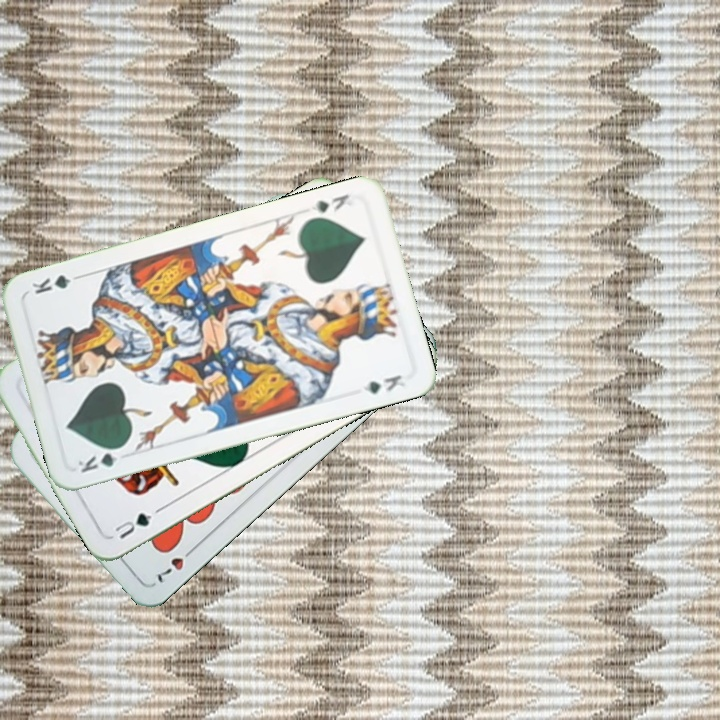GK: (73, 442, 128, 476), (307, 190, 352, 217)
GU: (110, 508, 155, 542)
H7: (150, 542, 199, 586)
